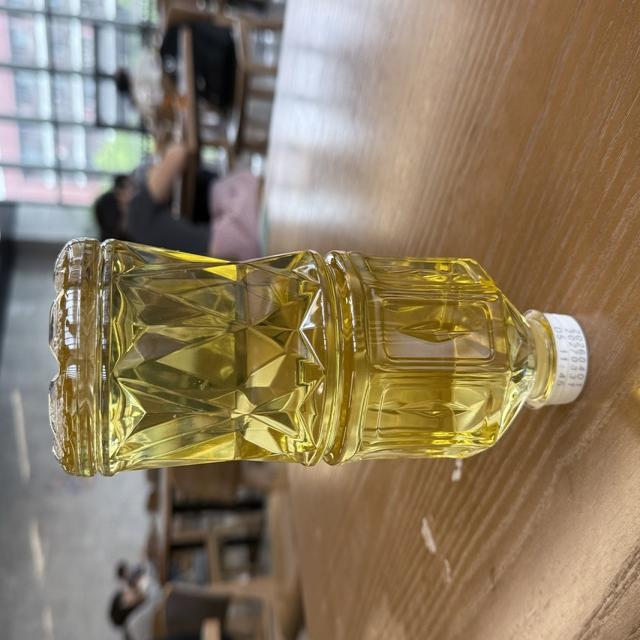high: (49, 239, 587, 476)
